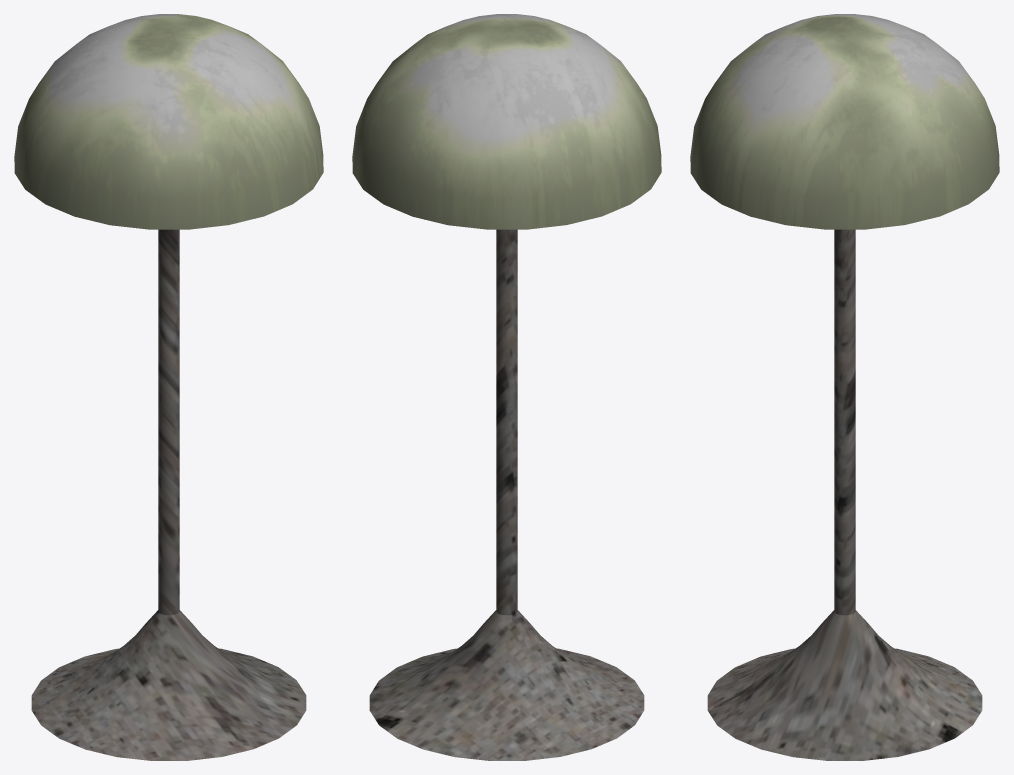
The model's file is SM_VernerPanton00.fbx.
3 views of the same model, side by side, from view 1: azimuth 30°, elevation 25°; view 2: azimuth 150°, elevation 25°; view 3: azimuth 270°, elevation 25° (orthographic).
Parts seen in each view (by area): view 1: SM_VernerPanton00; view 2: SM_VernerPanton00; view 3: SM_VernerPanton00.
Part boxes in pixels (x1,y1,x2,y2): SM_VernerPanton00: (14, 14, 323, 760); SM_VernerPanton00: (352, 14, 661, 760); SM_VernerPanton00: (690, 14, 999, 760).
Bounding box in the file's own units: 61.92 × 149 × 61.92.
